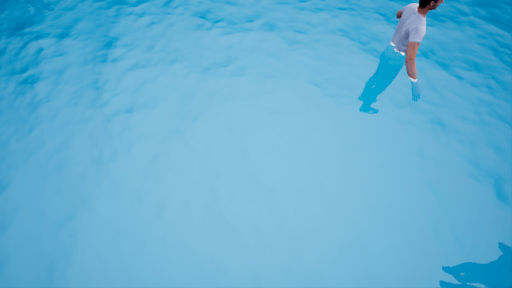person: (358, 1, 446, 129)
